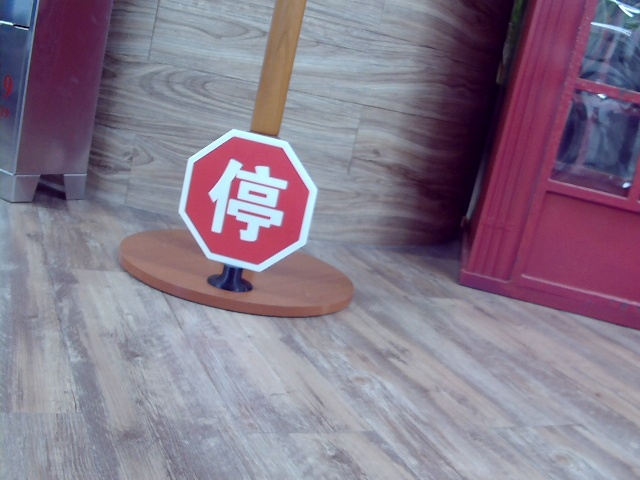stop: (208, 154, 286, 242)
